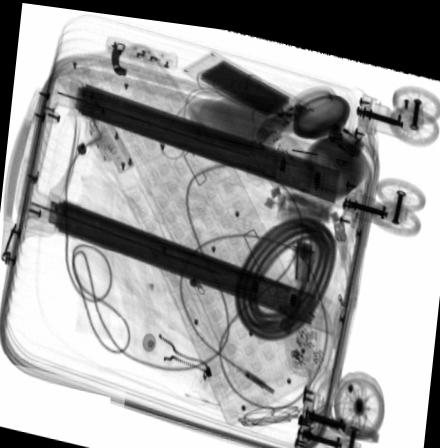Powerbank: (183, 44, 315, 124)
